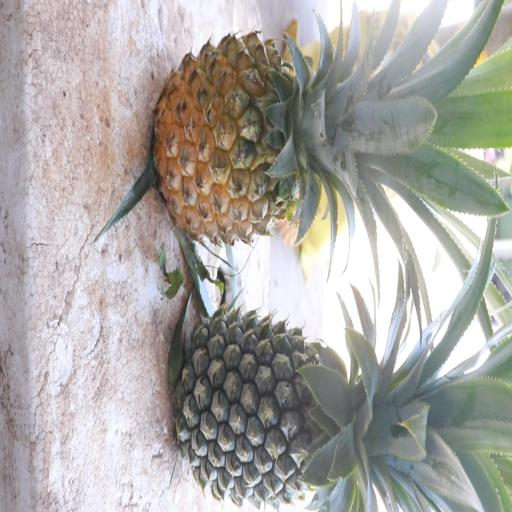Pineapple - v8 v1: (154, 27, 442, 245)
